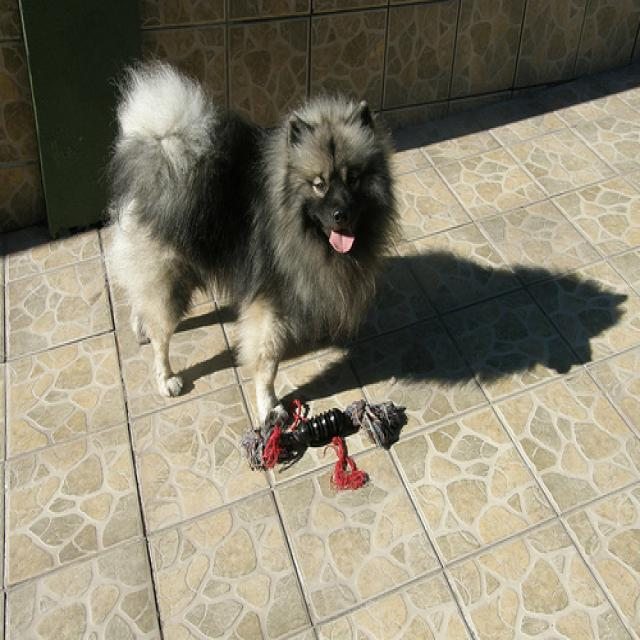dog-keeshond: (101, 51, 406, 442)
